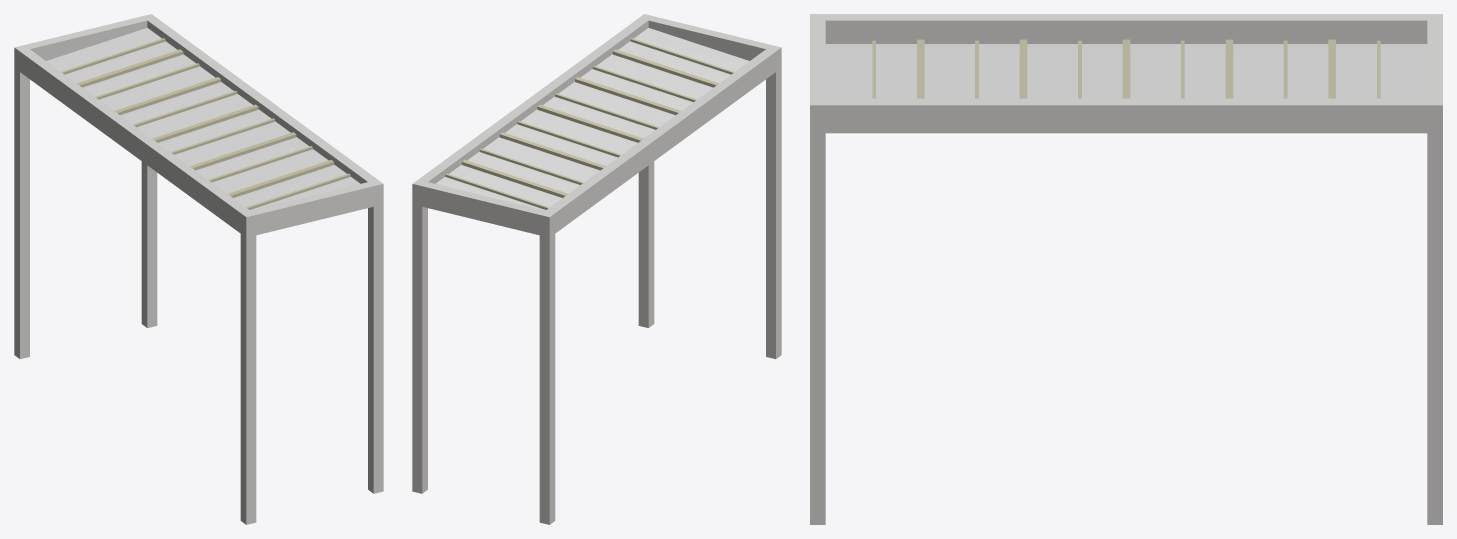
The model's file is hyr-single_h30-w13-l40_matwhite.fbx.
3 renders of one model, left to right at view 1: azimuth 30°, elevation 25°; view 2: azimuth 150°, elevation 25°; view 3: azimuth 270°, elevation 25°, orthographic. The views are drawn at different scales.
Parts seen in each view (by area): view 1: hyr-single_h30-w13-l40_matwhite; view 2: hyr-single_h30-w13-l40_matwhite; view 3: hyr-single_h30-w13-l40_matwhite.
Boxes of the visible parts, x1,y1,x2,y2 form: hyr-single_h30-w13-l40_matwhite: [14, 14, 383, 524]; hyr-single_h30-w13-l40_matwhite: [412, 14, 781, 524]; hyr-single_h30-w13-l40_matwhite: [810, 14, 1442, 524].
Size of the model in its own units: 140 by 300 by 410.
Materials: 3 (2 with a texture image).
